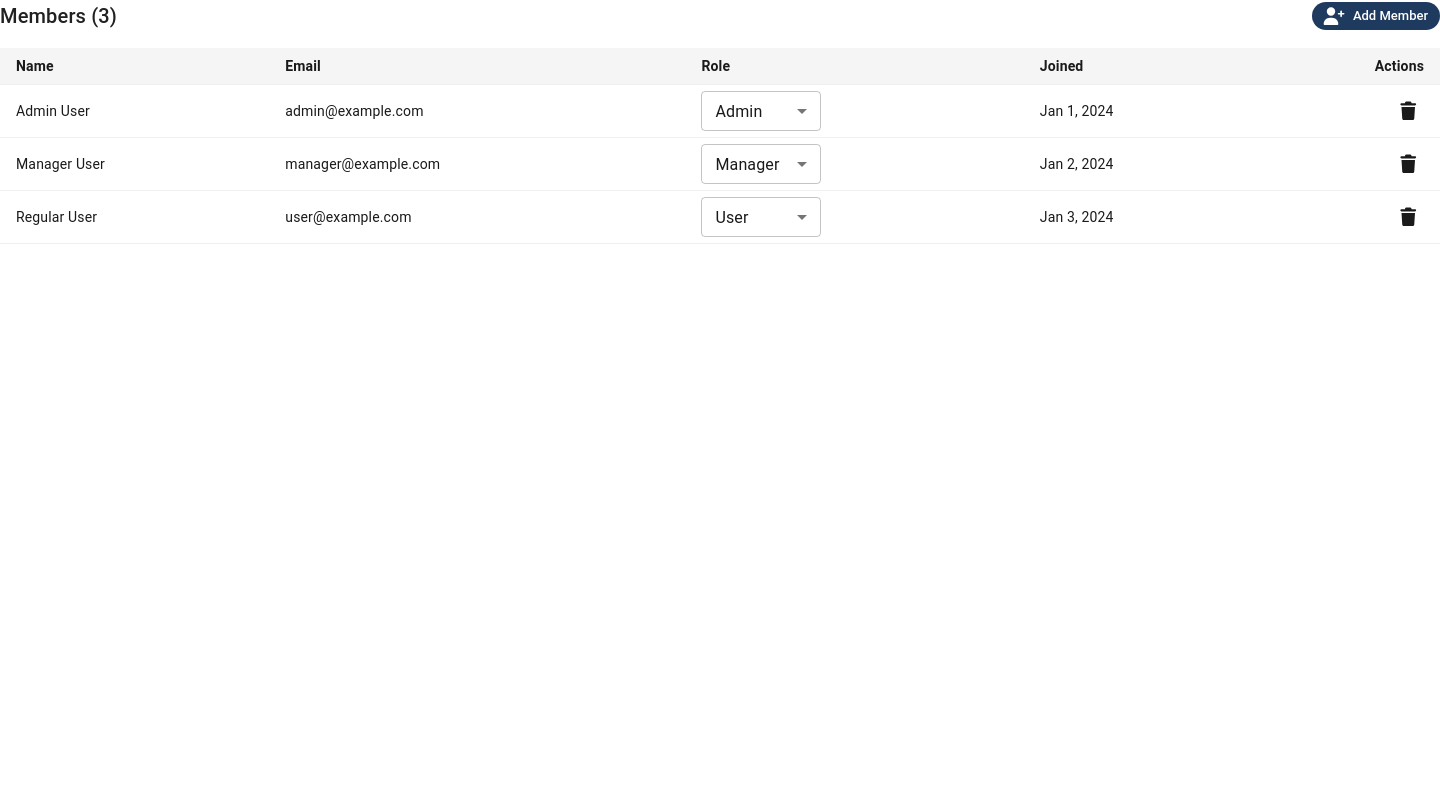
it: OrgMembersTable › Member Removal › opens confirmation dialog when remove button is clicked
Click the button titled "remove member" in the row of "Admin User" at (1408, 111), box x1=1392 y1=97 x2=1424 y2=125
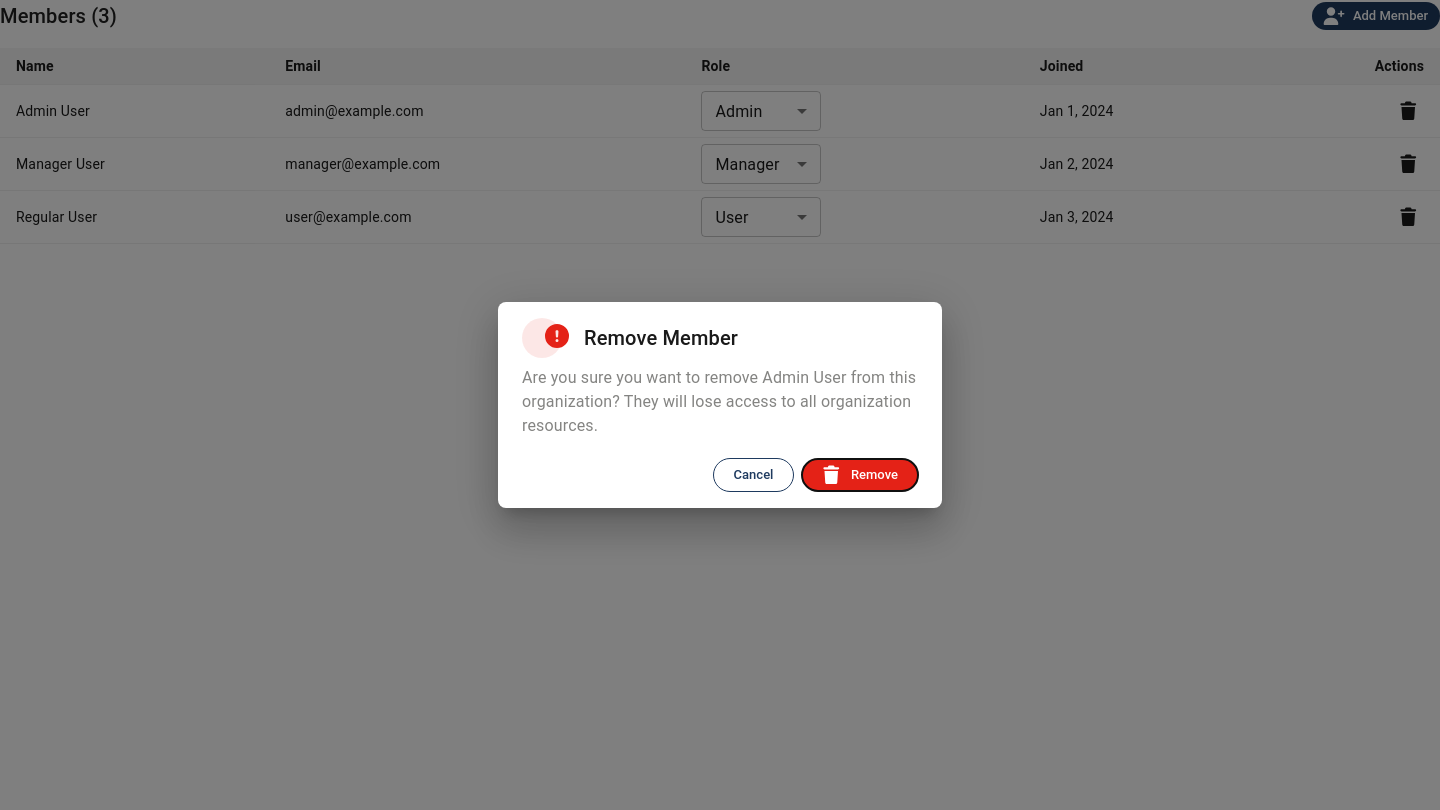
Expected: the text "Admin User" is shown, x1=0 y1=84 x2=269 y2=138
Expected: the dialog is shown, x1=498 y1=302 x2=942 y2=508
Expected: the heading "Remove Member" is shown, x1=522 y1=318 x2=738 y2=358
